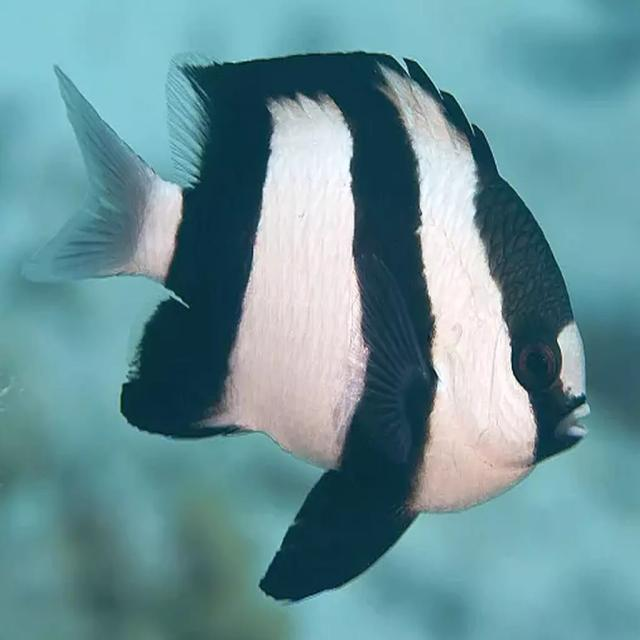ThreeStripedDamselfish: (43, 47, 589, 606)
